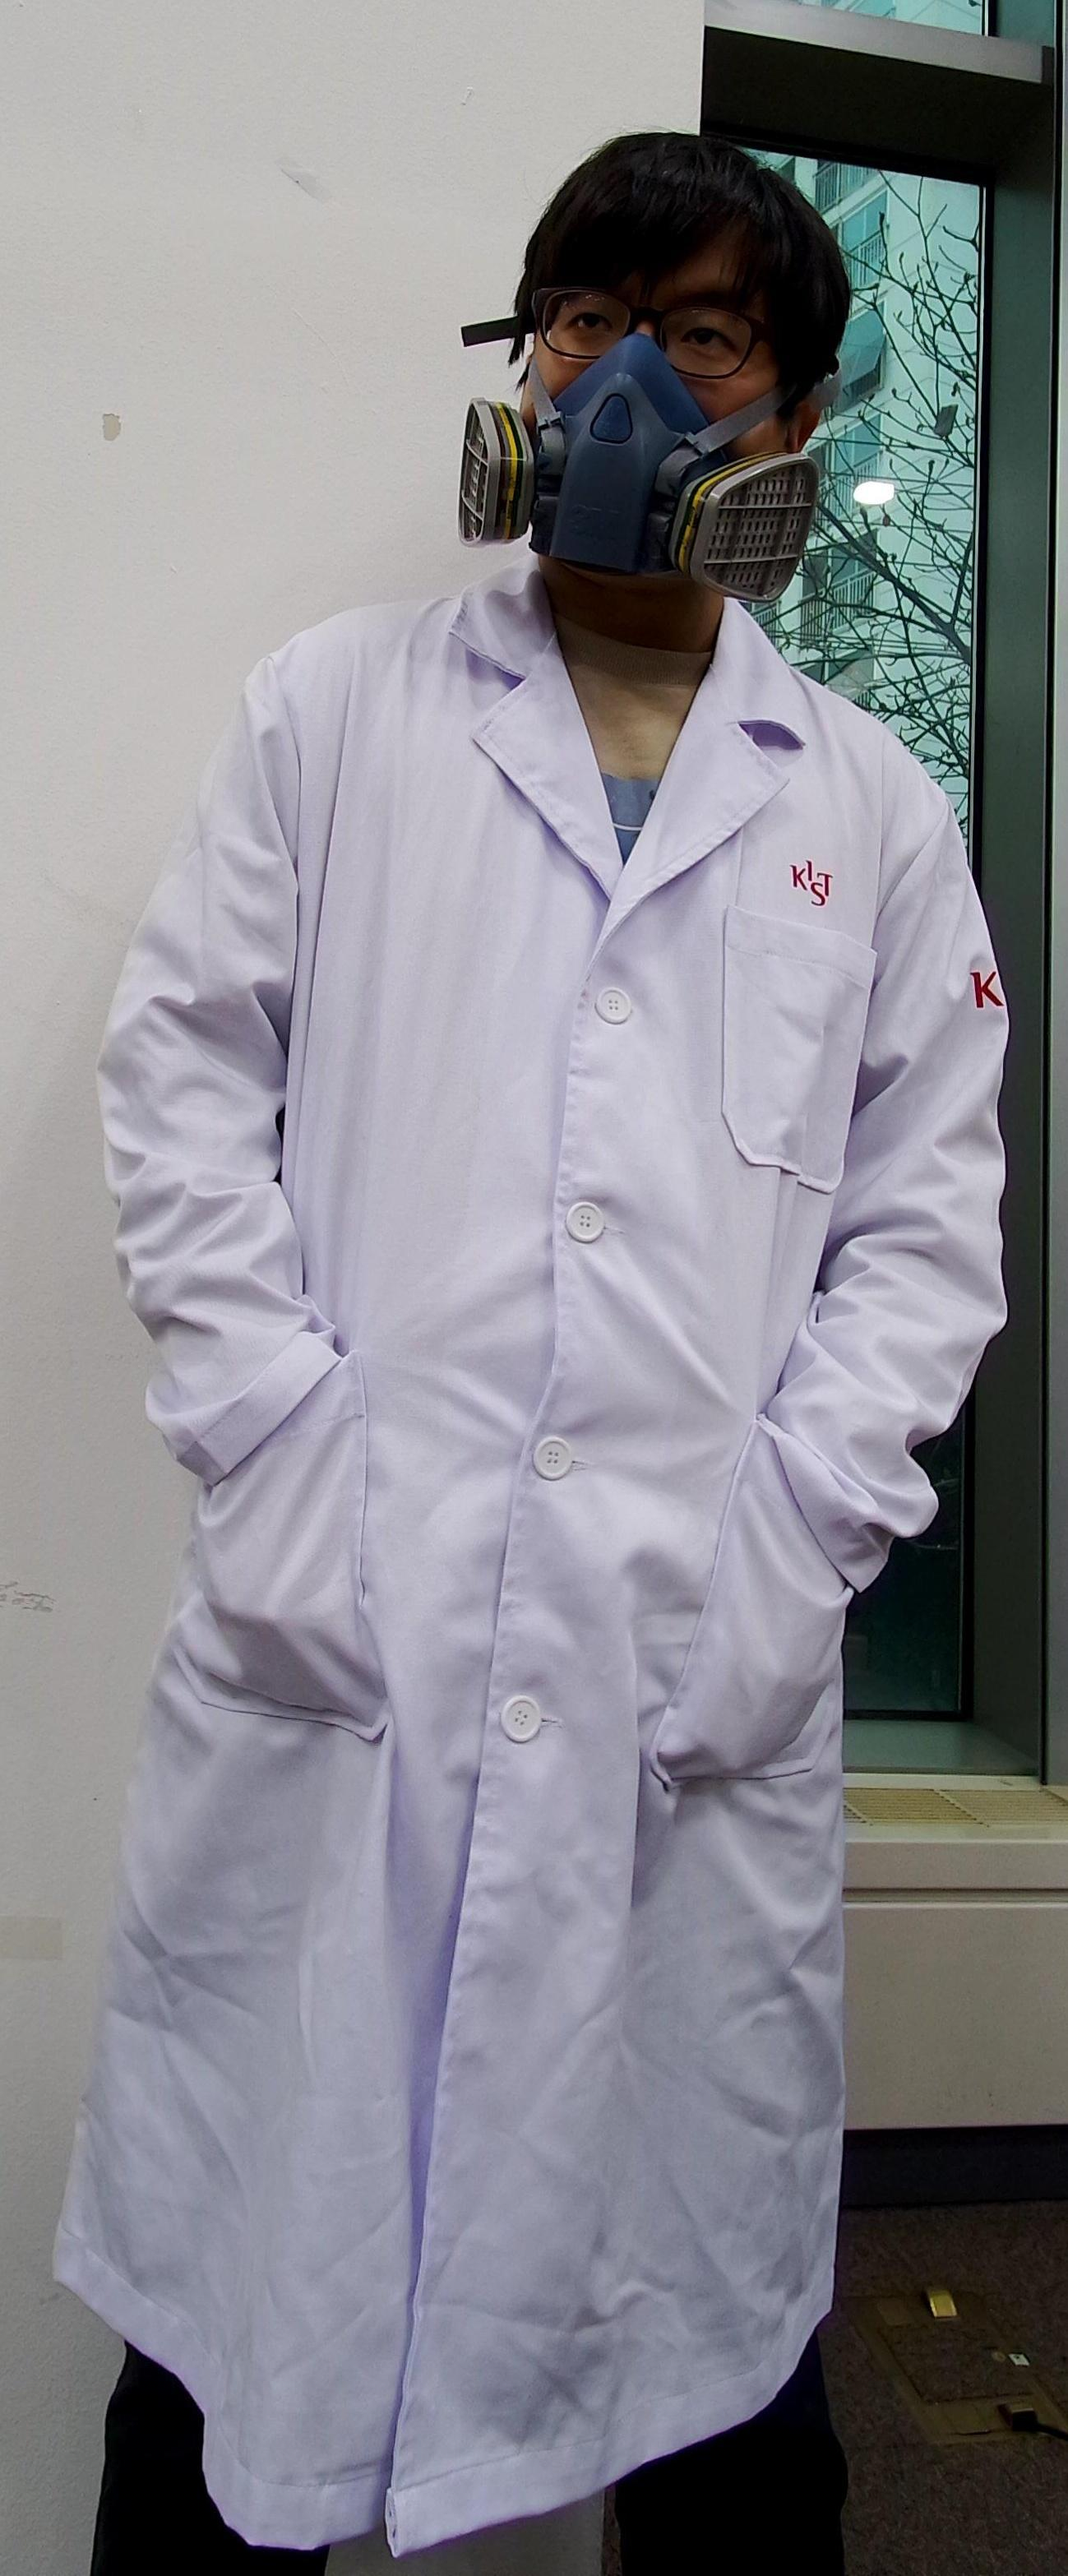lab_coat: (35, 601, 1032, 2443)
